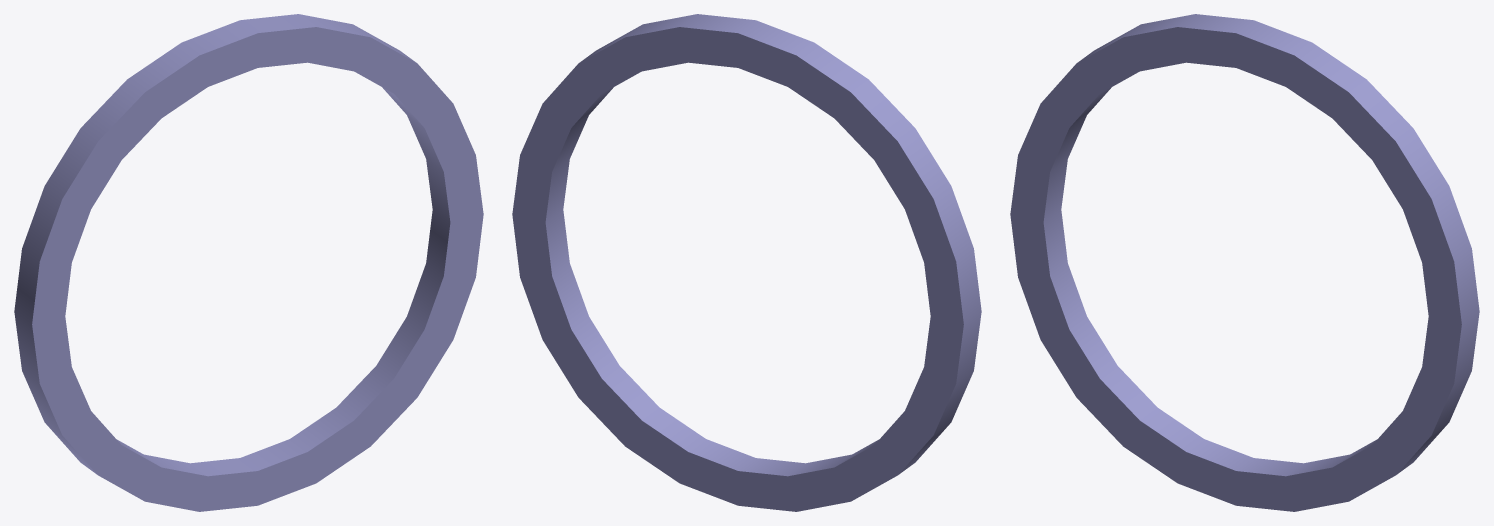
The model's file is PDCUpstreamBPipeFlange.gltf.
The picture shows the model from 3 angles, left to right: view 1: azimuth 30°, elevation 25°; view 2: azimuth 150°, elevation 25°; view 3: azimuth 330°, elevation 25°; orthographic projection.
Visible parts, largest first — view 1: logicPDCUpstreamBPipeFlange_pv0x22435f0; view 2: logicPDCUpstreamBPipeFlange_pv0x22435f0; view 3: logicPDCUpstreamBPipeFlange_pv0x22435f0.
Part boxes in pixels (left/top/right/bottom): logicPDCUpstreamBPipeFlange_pv0x22435f0: left=14, top=14, right=483, bottom=511; logicPDCUpstreamBPipeFlange_pv0x22435f0: left=512, top=14, right=981, bottom=511; logicPDCUpstreamBPipeFlange_pv0x22435f0: left=1010, top=14, right=1479, bottom=511.
Bounding box in the file's own units: 41.76 × 41.76 × 2.85.
